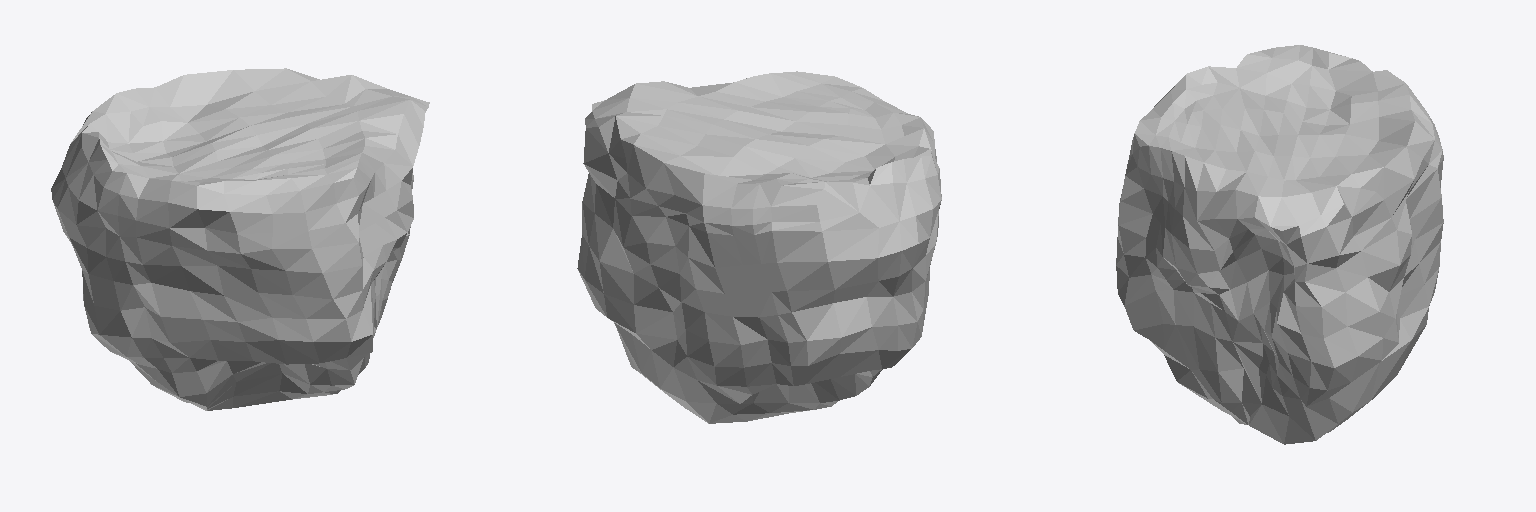
File: Platform_1.obj
3 views of the same model, side by side, from view 1: azimuth 30°, elevation 25°; view 2: azimuth 150°, elevation 25°; view 3: azimuth 270°, elevation 25° (orthographic).
Visible parts, largest first — view 1: polySurface1; view 2: polySurface1; view 3: polySurface1.
Part boxes in pixels (x1,y1,x2,y2): polySurface1: (51, 68, 429, 410); polySurface1: (577, 71, 941, 423); polySurface1: (1116, 45, 1443, 444).
Bounding box in the file's own units: 2.08 × 1.59 × 1.69.